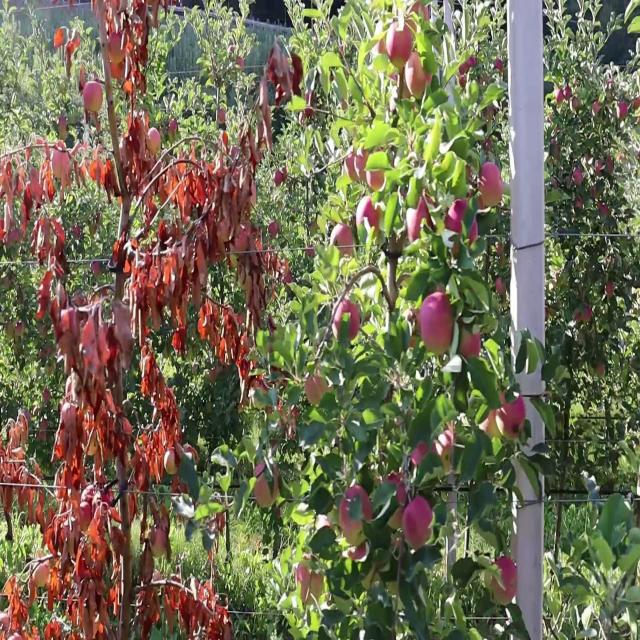apple: (420, 291, 456, 354), (340, 483, 374, 539), (404, 497, 435, 553), (492, 561, 520, 610), (500, 391, 528, 439), (452, 199, 480, 247), (408, 49, 433, 100), (388, 476, 408, 539), (296, 561, 324, 603), (256, 462, 280, 508), (480, 163, 504, 208), (388, 21, 412, 66), (336, 298, 361, 341), (384, 476, 409, 519), (460, 319, 483, 363), (460, 199, 480, 247), (408, 199, 430, 242), (268, 42, 289, 84), (208, 604, 233, 639), (436, 426, 456, 468), (228, 170, 251, 204), (484, 405, 506, 439), (140, 590, 160, 626), (180, 597, 198, 636), (304, 568, 324, 603), (368, 156, 387, 192), (348, 149, 368, 183), (196, 583, 216, 617), (304, 376, 327, 405), (72, 142, 88, 183), (460, 56, 478, 91), (332, 227, 355, 254), (56, 149, 72, 187), (52, 149, 71, 178), (84, 85, 104, 112), (360, 199, 380, 226), (160, 170, 175, 204), (412, 7, 432, 32), (412, 440, 429, 469), (368, 199, 383, 231), (348, 540, 368, 564), (152, 526, 168, 556), (56, 426, 70, 460), (268, 56, 284, 85), (164, 597, 178, 629), (140, 149, 159, 172), (292, 56, 304, 92), (56, 312, 71, 340), (120, 135, 133, 167), (400, 71, 414, 100), (244, 362, 258, 391), (408, 312, 419, 348), (4, 156, 20, 180), (148, 7, 166, 28), (164, 447, 177, 476), (92, 142, 105, 171), (356, 206, 372, 228), (56, 284, 68, 313), (84, 319, 96, 348), (108, 14, 123, 37), (148, 127, 161, 153), (20, 490, 35, 512), (176, 156, 188, 183), (252, 376, 268, 396), (92, 156, 103, 185), (92, 0, 107, 21), (112, 56, 124, 82), (184, 447, 200, 466), (64, 405, 76, 430), (60, 312, 75, 332), (136, 113, 151, 133), (380, 35, 391, 62), (104, 163, 115, 190), (80, 63, 90, 92), (108, 42, 122, 62), (280, 263, 292, 286), (56, 440, 68, 462), (136, 21, 148, 43), (32, 504, 44, 526), (4, 490, 15, 514), (172, 426, 184, 448), (32, 170, 41, 199), (60, 334, 73, 354), (56, 227, 66, 252), (44, 270, 53, 297), (112, 28, 123, 50), (64, 355, 75, 377), (496, 277, 507, 299), (40, 163, 52, 183), (76, 163, 88, 183), (280, 85, 292, 105), (32, 170, 41, 196), (104, 42, 114, 64), (60, 113, 68, 140), (108, 163, 116, 190), (484, 135, 494, 156), (140, 113, 151, 132), (136, 1, 147, 20), (16, 177, 26, 197), (124, 78, 134, 98), (40, 291, 51, 309), (200, 319, 209, 341), (140, 71, 148, 94), (572, 170, 584, 185), (56, 28, 64, 50), (105, 8, 119, 20), (56, 263, 66, 279), (552, 142, 560, 162), (220, 106, 228, 126), (24, 184, 33, 201), (48, 184, 56, 203), (496, 56, 504, 75), (596, 362, 606, 377), (608, 156, 616, 174), (52, 298, 59, 318), (36, 191, 44, 208), (592, 99, 601, 114), (608, 284, 616, 299), (620, 106, 628, 121), (584, 305, 592, 320), (556, 92, 564, 107), (596, 163, 604, 178), (564, 85, 572, 100), (572, 99, 580, 114), (236, 56, 244, 71), (552, 177, 560, 192), (68, 42, 75, 59), (141, 49, 148, 66), (600, 206, 609, 219), (52, 248, 58, 267), (172, 120, 179, 135), (592, 184, 599, 199), (40, 250, 47, 261), (76, 35, 81, 50), (576, 199, 584, 208), (36, 312, 45, 320), (576, 312, 582, 320), (28, 149, 32, 160), (568, 177, 572, 187), (637, 99, 640, 112), (588, 156, 592, 164)
